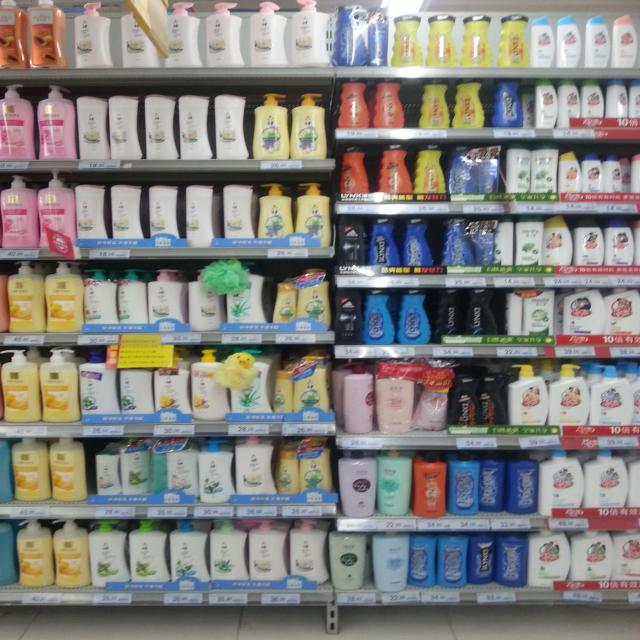unorganised: (122, 440, 151, 496), (468, 533, 497, 589), (480, 455, 506, 512), (146, 438, 170, 497)
